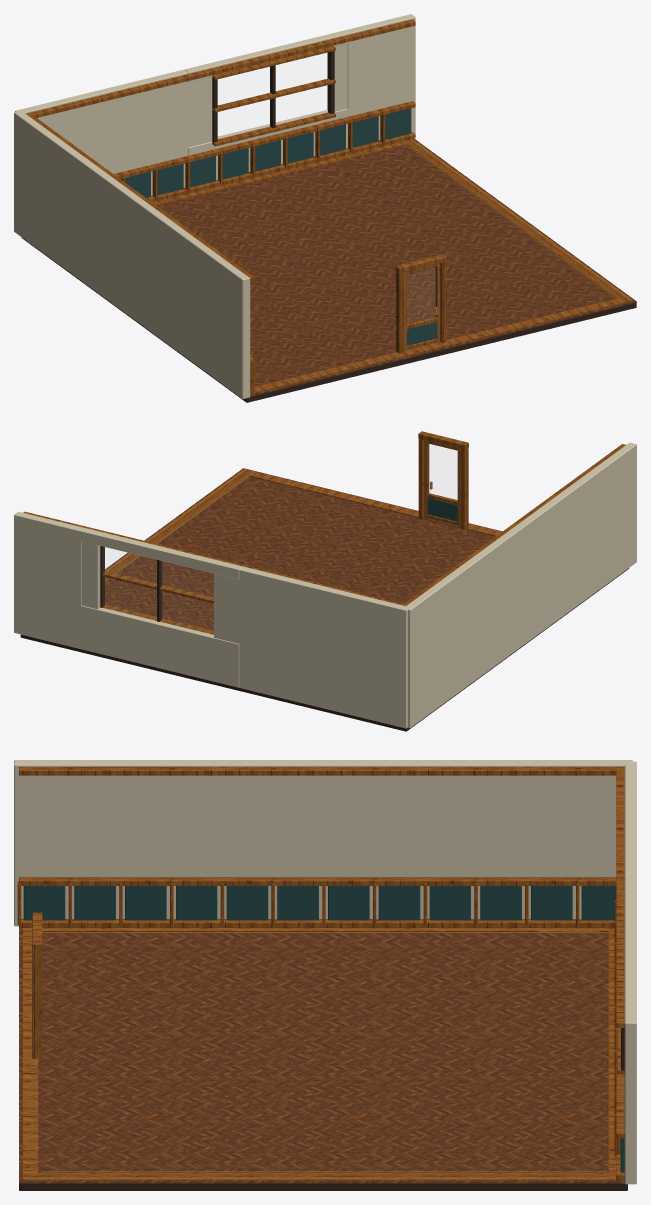
3 views of the same model, one above another, from view 1: azimuth 30°, elevation 25°; view 2: azimuth 150°, elevation 25°; view 3: azimuth 270°, elevation 25° (orthographic). The views are drawn at different scales.
Parts seen in each view (by area): view 1: clockshop_floor, clockshop_wall, clockshop_walnut, clockshop_teal, clockshop_darkwood, clockshop_wall.001, door_leaf_clockshop; view 2: clockshop_wall, clockshop_floor, clockshop_walnut, clockshop_wall.001, clockshop_darkwood, door_leaf_clockshop; view 3: clockshop_floor, clockshop_wall, clockshop_walnut, clockshop_teal, clockshop_darkwood, clockshop_brass.
Part boxes in pixels (x1,y1,x2,y2): clockshop_floor: (157, 138, 636, 396); clockshop_wall: (14, 14, 415, 398); clockshop_walnut: (26, 19, 632, 394); clockshop_teal: (125, 108, 411, 197); clockshop_darkwood: (21, 51, 636, 402); clockshop_wall.001: (188, 44, 347, 147); door_leaf_clockshop: (403, 263, 440, 350); clockshop_wall: (14, 442, 636, 728); clockshop_floor: (105, 468, 502, 630); clockshop_walnut: (23, 431, 625, 634); clockshop_wall.001: (81, 541, 239, 643); clockshop_darkwood: (20, 546, 629, 731); door_leaf_clockshop: (424, 440, 460, 526); clockshop_floor: (19, 927, 624, 1183); clockshop_wall: (14, 760, 636, 1184); clockshop_walnut: (17, 767, 624, 1180); clockshop_teal: (23, 886, 624, 1172); clockshop_darkwood: (19, 1028, 627, 1190); clockshop_brass: (41, 932, 606, 1172).
Size of the model in its own units: 14.33 by 4.32 by 14.33.
Materials: 7 (2 with a texture image).
